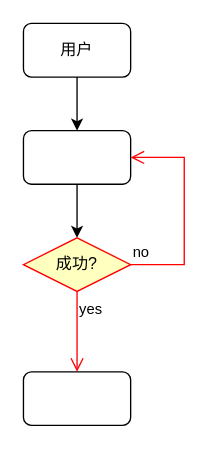
The diagram is 221 pixels wide and 449 high, and some of its shapes have lost their labels. The box of each missing label's shape, as (x1, y1, x2, y2) in pixels:
注册: (22, 129, 131, 184)
登录: (22, 371, 131, 425)
